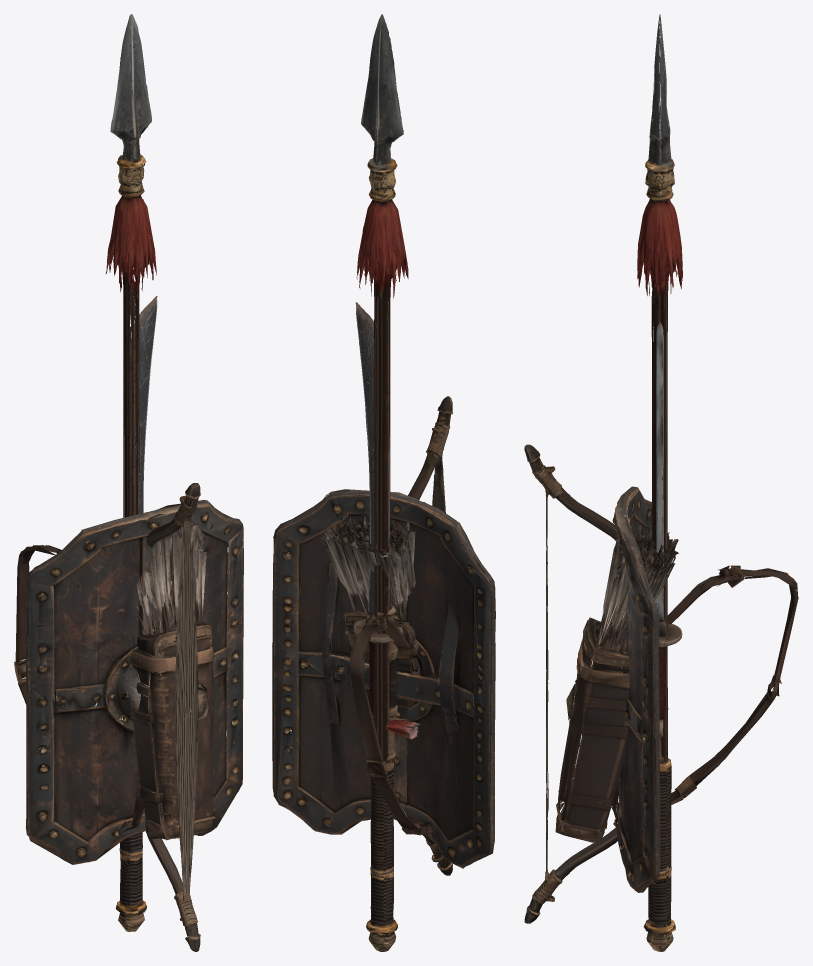
Rendered from weapons-v1.glb.
The picture shows the model from 3 angles, left to right: view 1: azimuth 30°, elevation 25°; view 2: azimuth 150°, elevation 25°; view 3: azimuth 270°, elevation 25°; orthographic projection. The views are drawn at different scales.
Visible parts, largest first — view 1: Shield, Quiver, Spear, Bow, Sword; view 2: Shield, Spear, Quiver, Sword, Bow; view 3: Quiver, Shield, Spear, Bow, Sword.
Boxes of the visible parts, <box> form: Shield: <box>25,500,243,864</box>; Quiver: <box>14,525,215,840</box>; Spear: <box>105,14,156,931</box>; Bow: <box>126,483,200,951</box>; Sword: <box>113,296,157,717</box>; Shield: <box>272,489,495,868</box>; Spear: <box>356,14,408,951</box>; Quiver: <box>320,514,432,835</box>; Sword: <box>353,302,420,739</box>; Bow: <box>373,396,452,875</box>; Quiver: <box>555,523,798,842</box>; Shield: <box>605,486,660,892</box>; Spear: <box>637,14,682,951</box>; Bow: <box>524,444,664,923</box>; Sword: <box>656,321,682,737</box>.
Size of the model in its own units: 0.5313 by 2.13 by 0.5674.
Materials: 5 (5 with a texture image).
